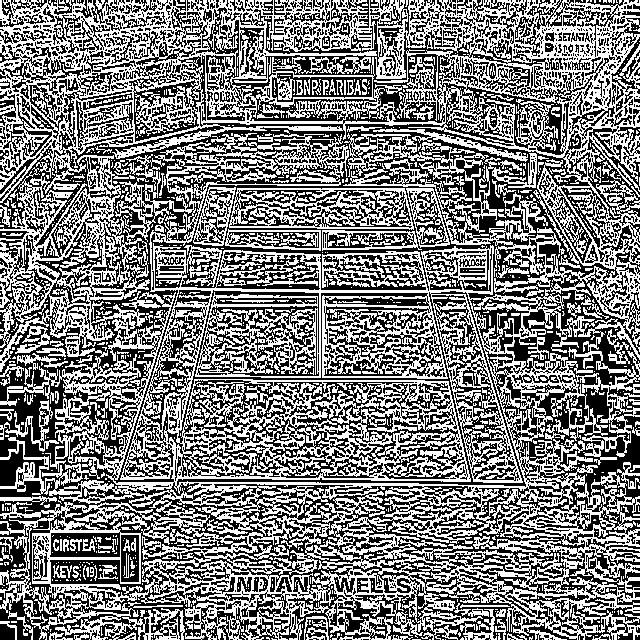left side: (404, 187, 524, 484), (117, 185, 236, 481)
player: (157, 374, 189, 500), (334, 119, 352, 187)
